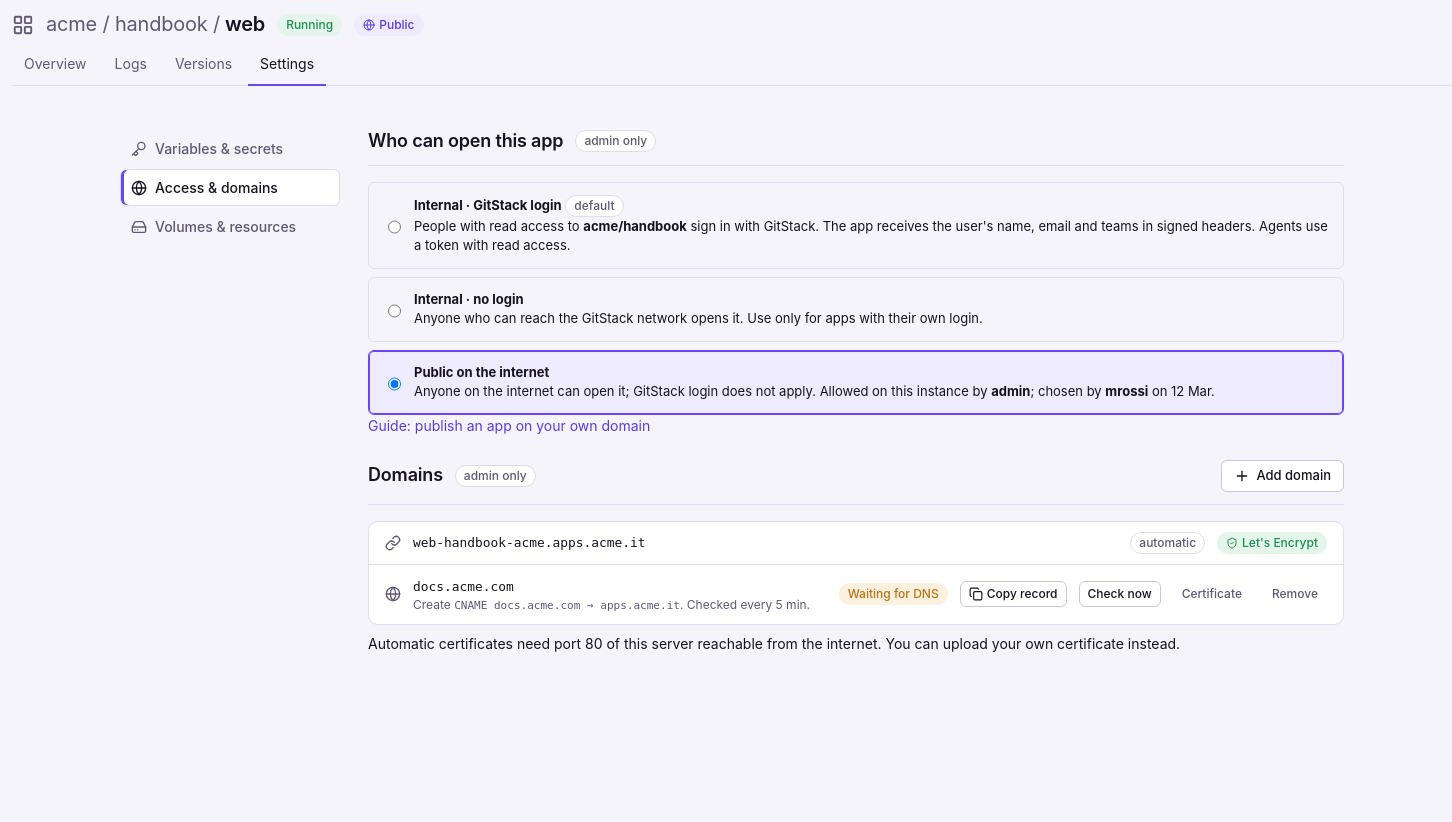
it: Domini propri (H7, variante pubblica) › «Check now» su repo archiviato (409 archived): testo che dice il motivo
Click the button with aria-label "Check docs.acme.com now".
click(1120, 594)  # box [1078, 581, 1161, 607]
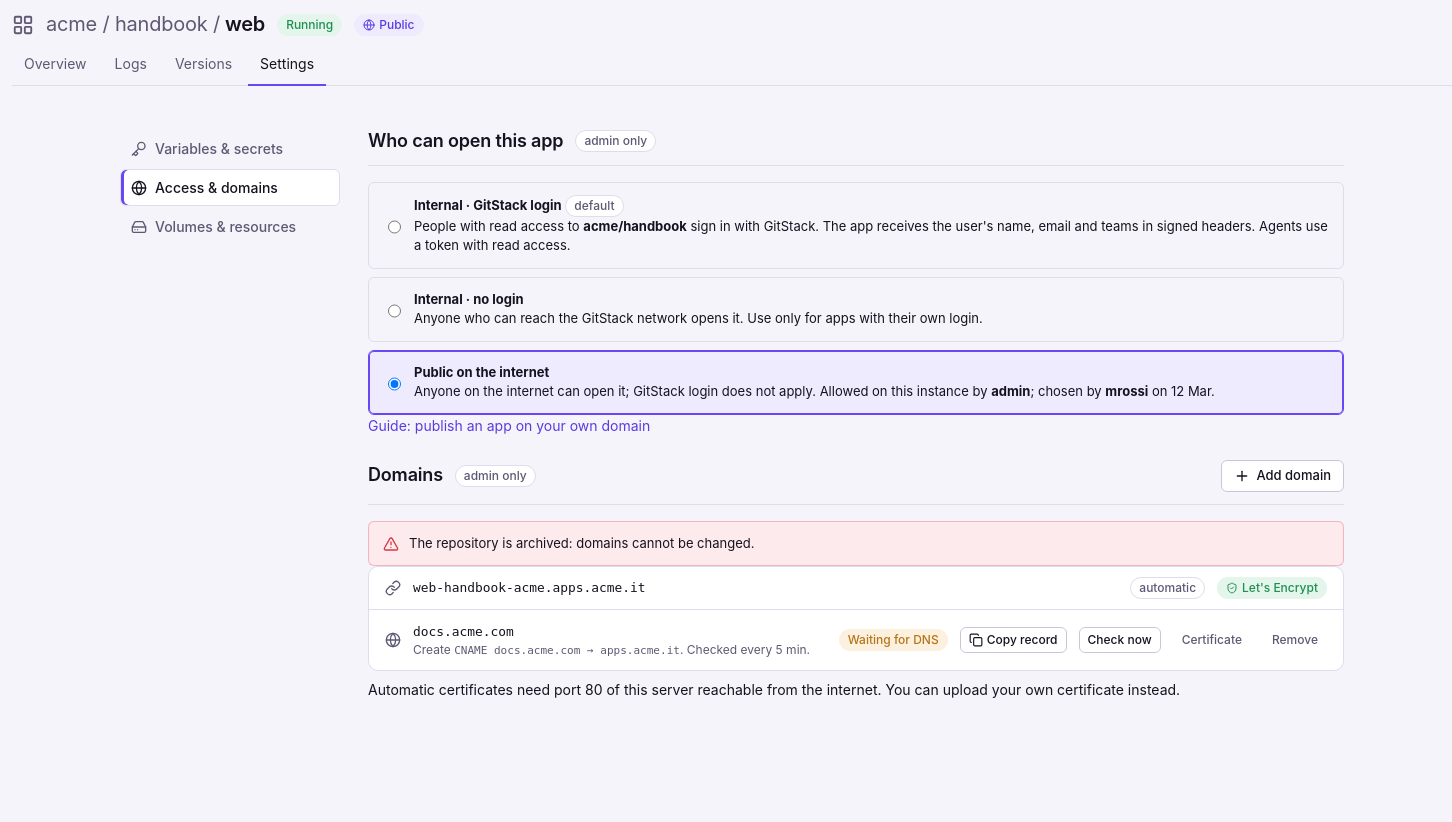
expect the text "The repository is archived: domains cannot be changed." is shown: met, box [409, 534, 754, 553]
